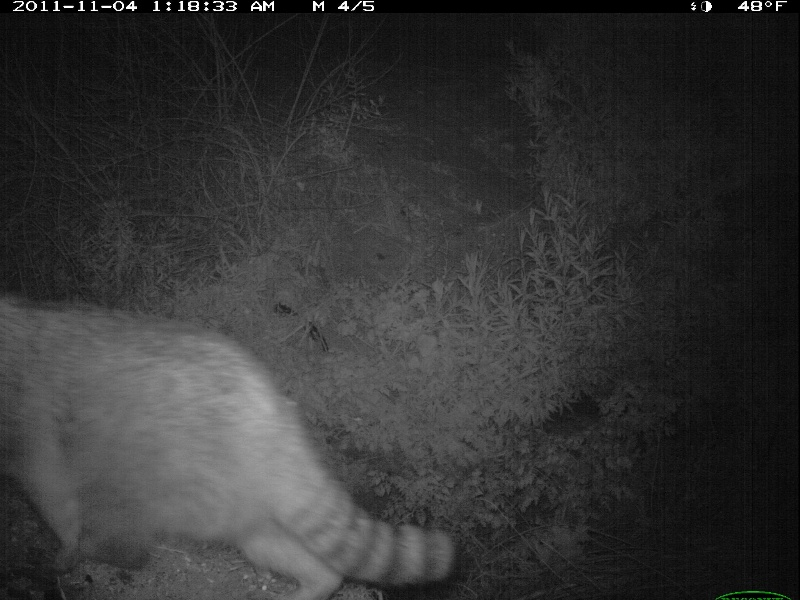raccoon: (4, 282, 466, 596)
